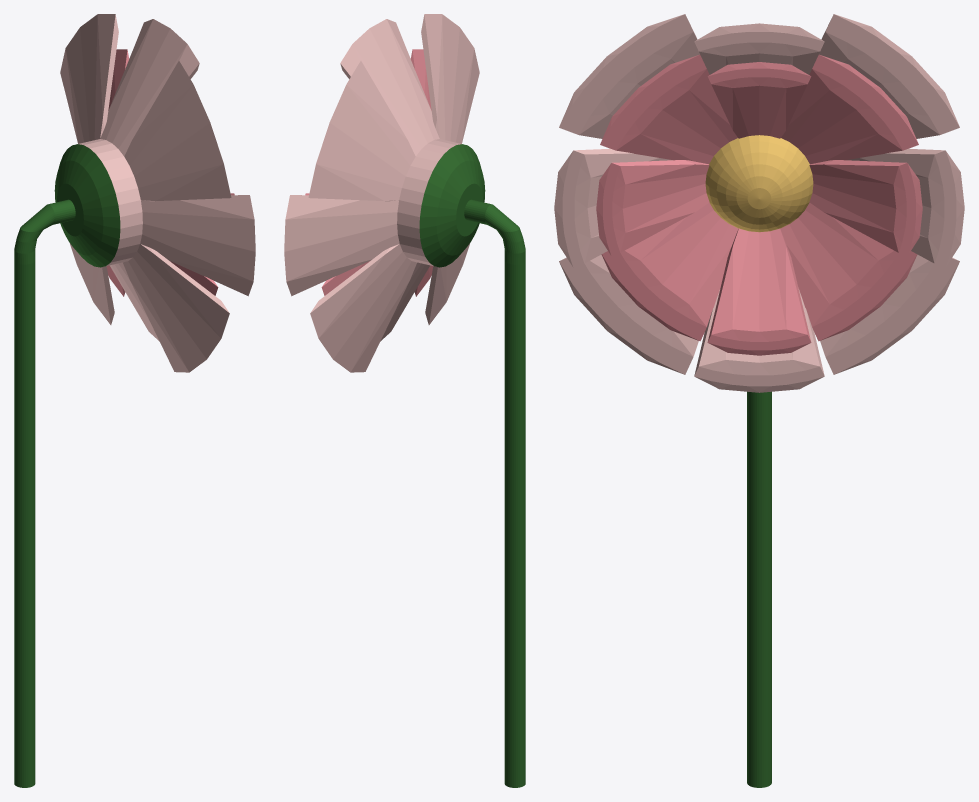
File: Fleur1.fbx
The picture shows the model from 3 angles, left to right: view 1: azimuth 30°, elevation 25°; view 2: azimuth 150°, elevation 25°; view 3: azimuth 270°, elevation 25°; orthographic projection. The views are drawn at different scales.
Parts seen in each view (by area): view 1: Cylinder.004, Cylinder.002; view 2: Cylinder.004, Cylinder.002; view 3: Cylinder.002, Cylinder.004, Sphere.001.
Boxes of the visible parts, bbox=[...] form: Cylinder.004: bbox=[14, 14, 255, 787]; Cylinder.002: bbox=[106, 49, 234, 296]; Cylinder.004: bbox=[284, 14, 525, 787]; Cylinder.002: bbox=[305, 49, 433, 296]; Cylinder.002: bbox=[596, 54, 922, 355]; Cylinder.004: bbox=[554, 14, 964, 787]; Sphere.001: bbox=[705, 135, 813, 232].
Size of the model in its own units: 92.56 by 406 by 179.
